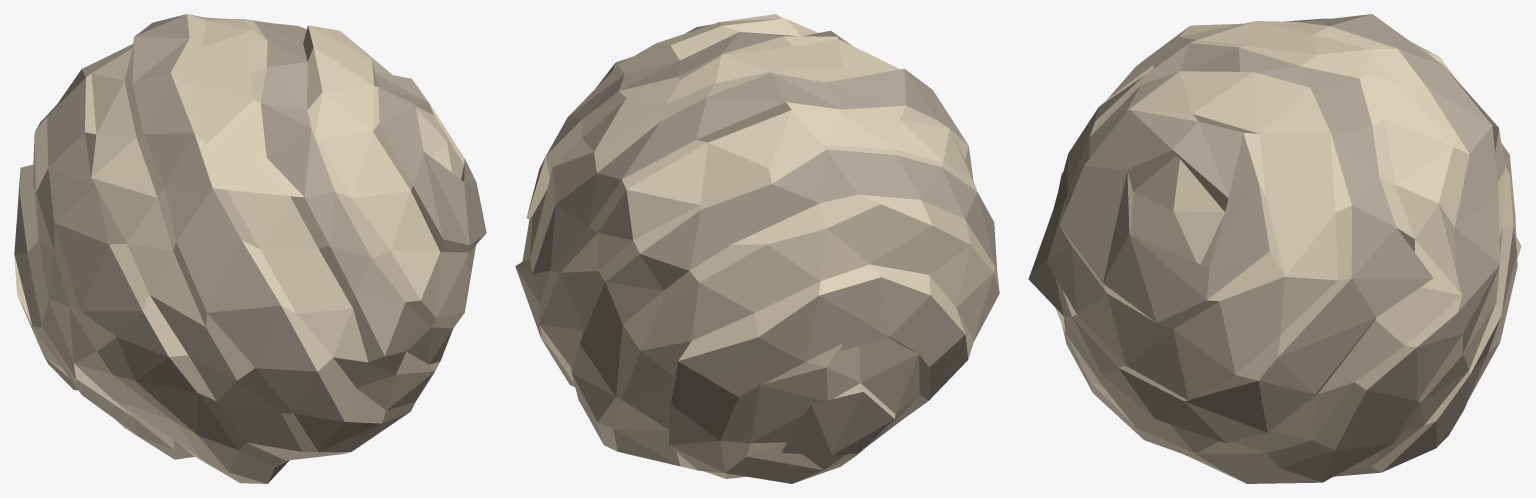
File: jupiter.fbx
3 views of the same model, side by side, from view 1: azimuth 30°, elevation 25°; view 2: azimuth 150°, elevation 25°; view 3: azimuth 270°, elevation 25° (orthographic). The views are drawn at different scales.
Visible parts, largest first — view 1: Jupiter; view 2: Jupiter; view 3: Jupiter.
Part boxes in pixels (bbox=[...]): Jupiter: bbox=[14, 14, 486, 483]; Jupiter: bbox=[515, 14, 999, 483]; Jupiter: bbox=[1028, 14, 1521, 483].
Size of the model in its own units: 393 by 385 by 406.
